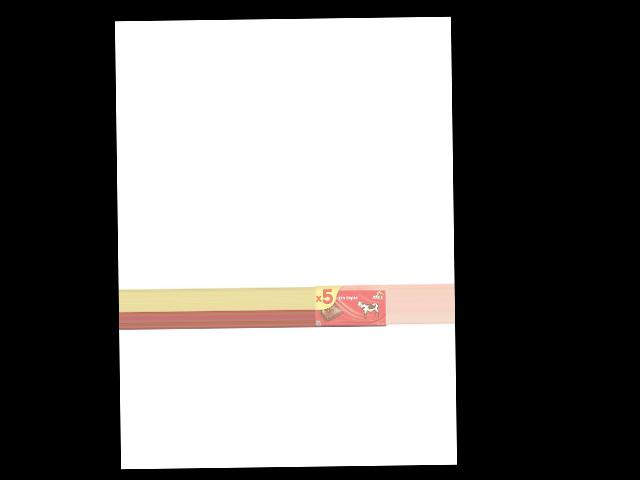chocolate: (314, 283, 388, 327)
